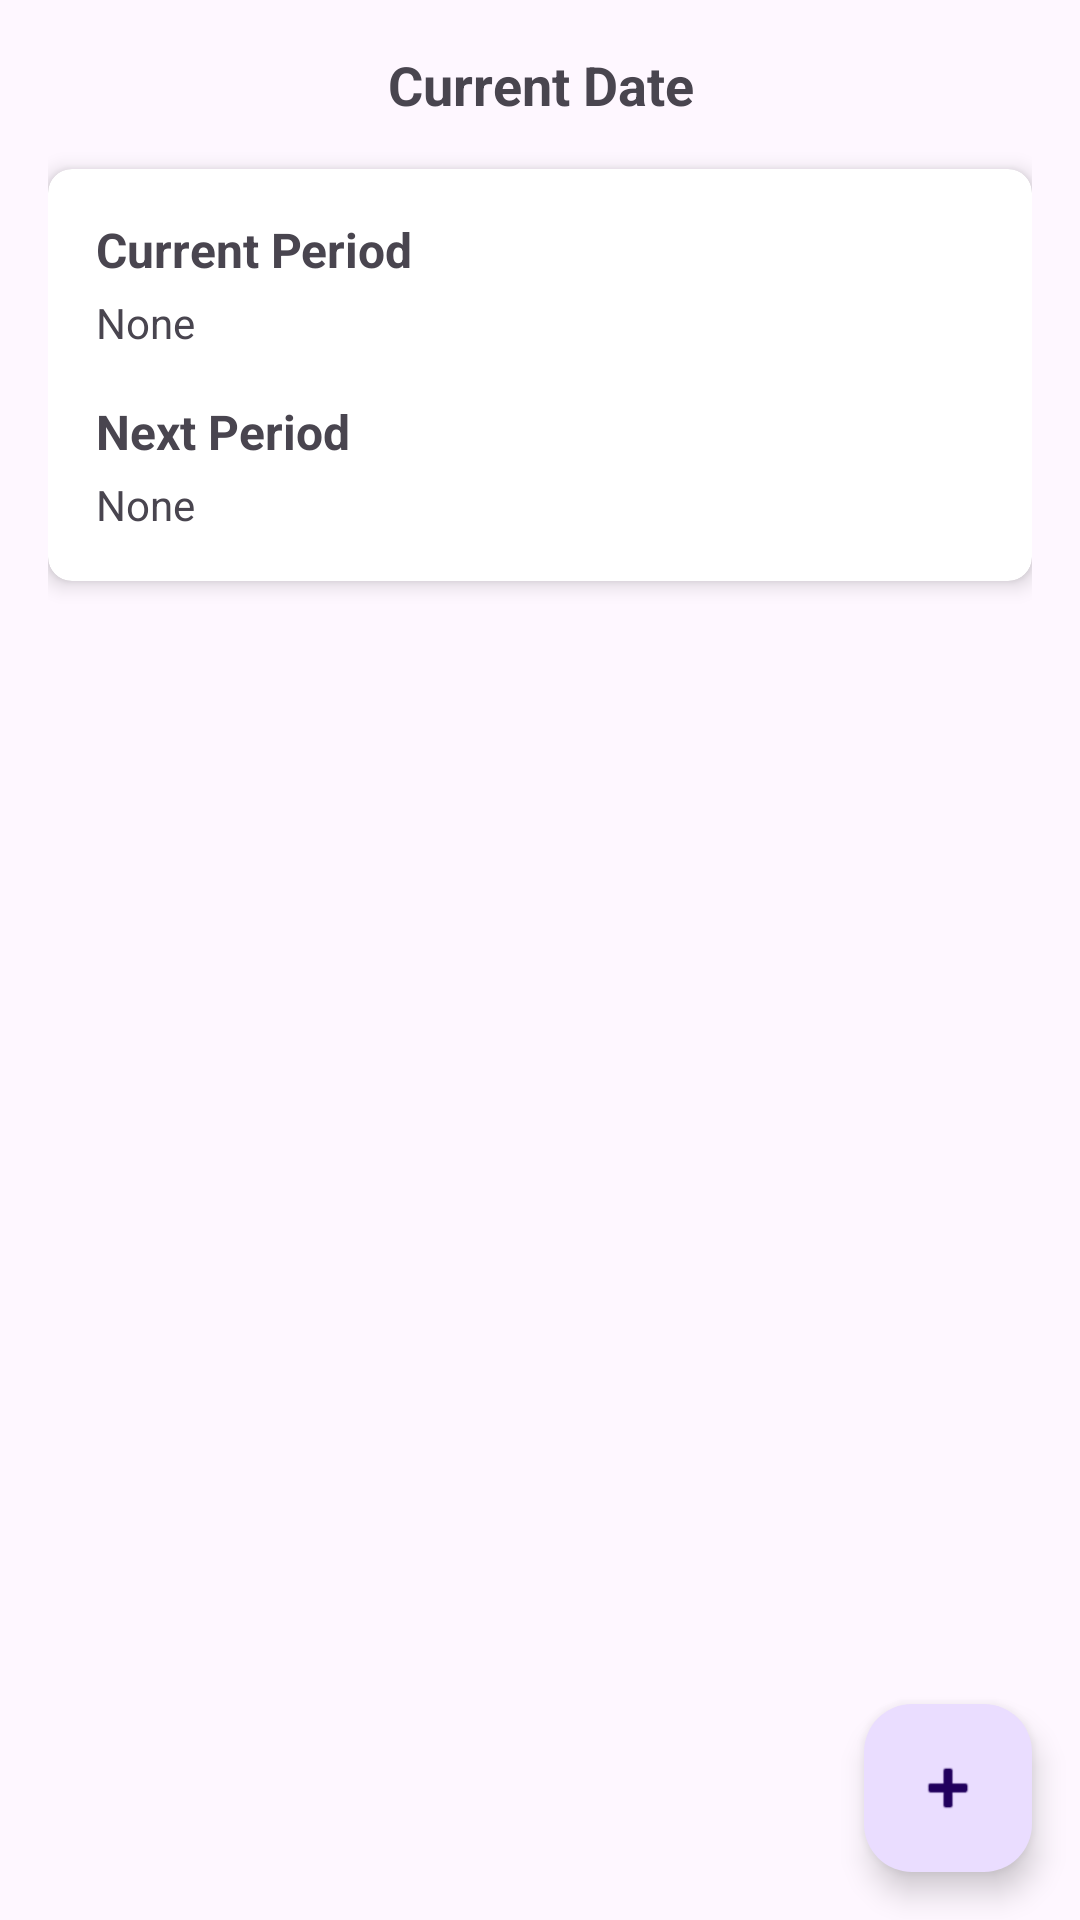

Icon bounding boxes for this 1080 x 1920 phone screenshot, format (x1, y1, x2, y2):
Add Period: (864, 1704, 1032, 1872)
